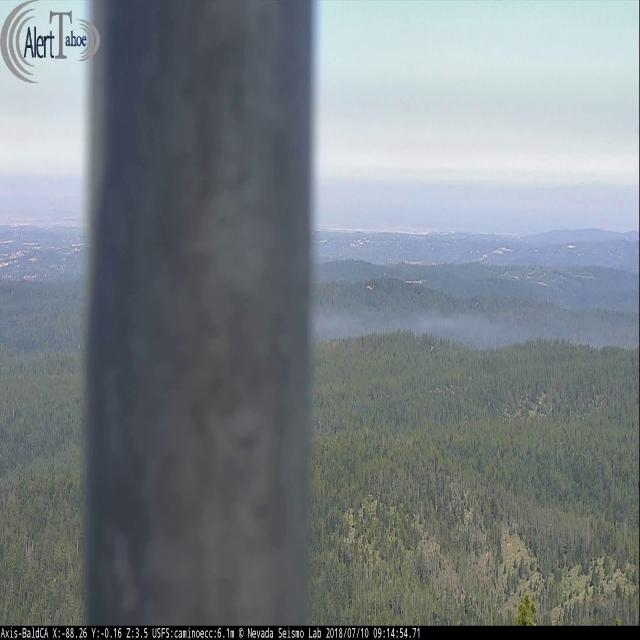smoke: (315, 298, 640, 348)
